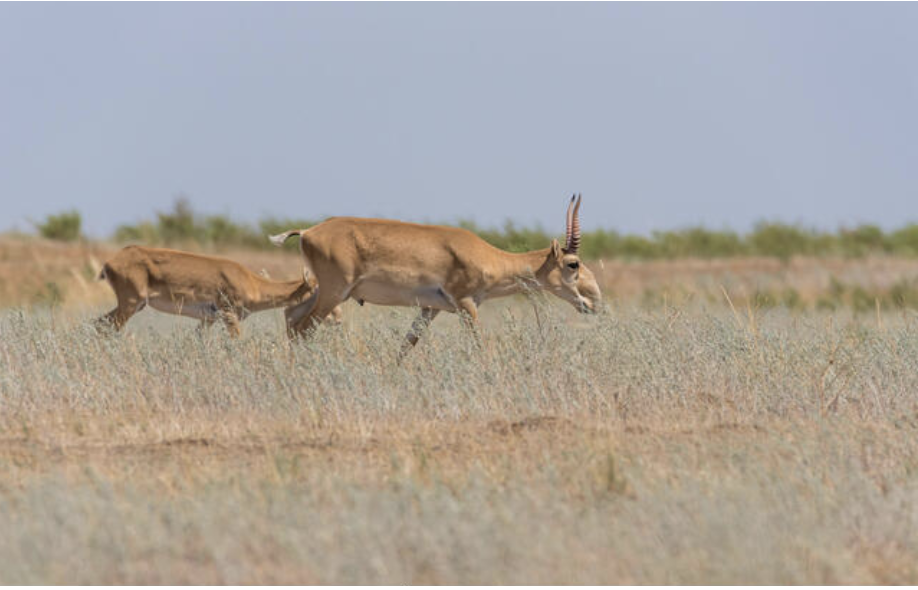saiga: (271, 184, 617, 359)
